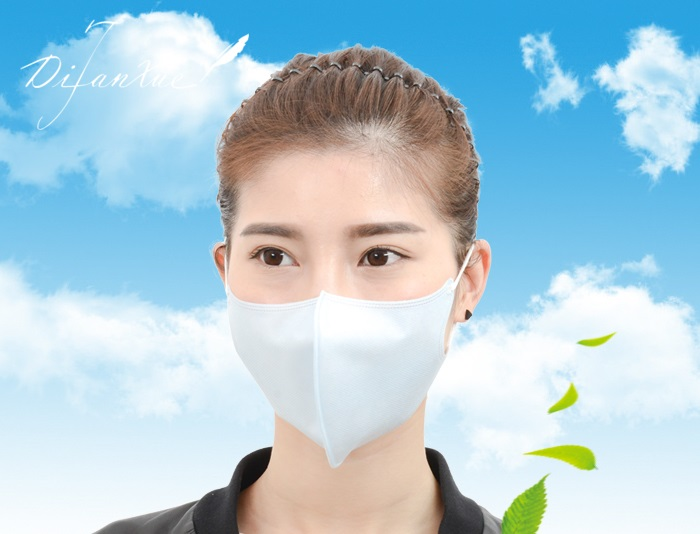face_mask: (226, 146, 459, 423)
